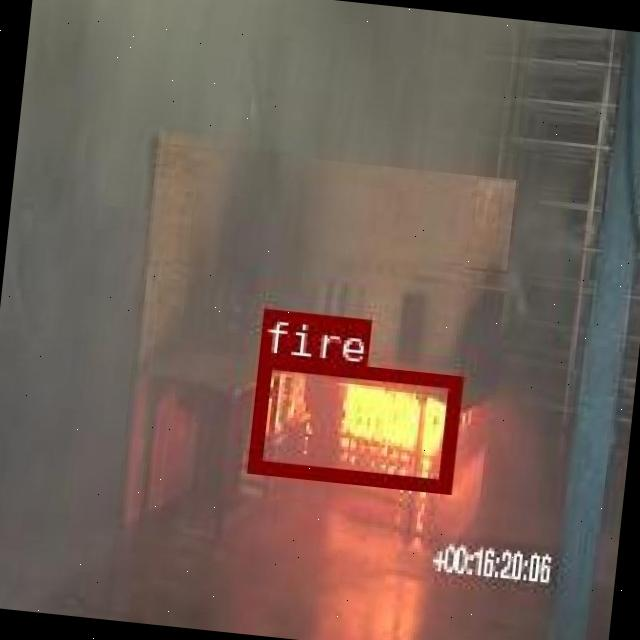fire: (246, 352, 460, 491)
